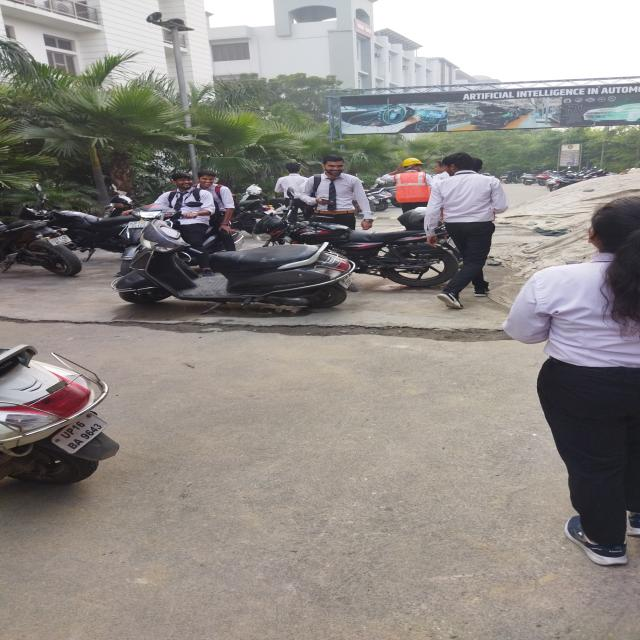safe: (381, 156, 432, 232)
unsafe: (431, 154, 492, 307), (152, 171, 213, 279), (304, 154, 372, 233), (195, 171, 238, 251), (276, 161, 308, 222)
